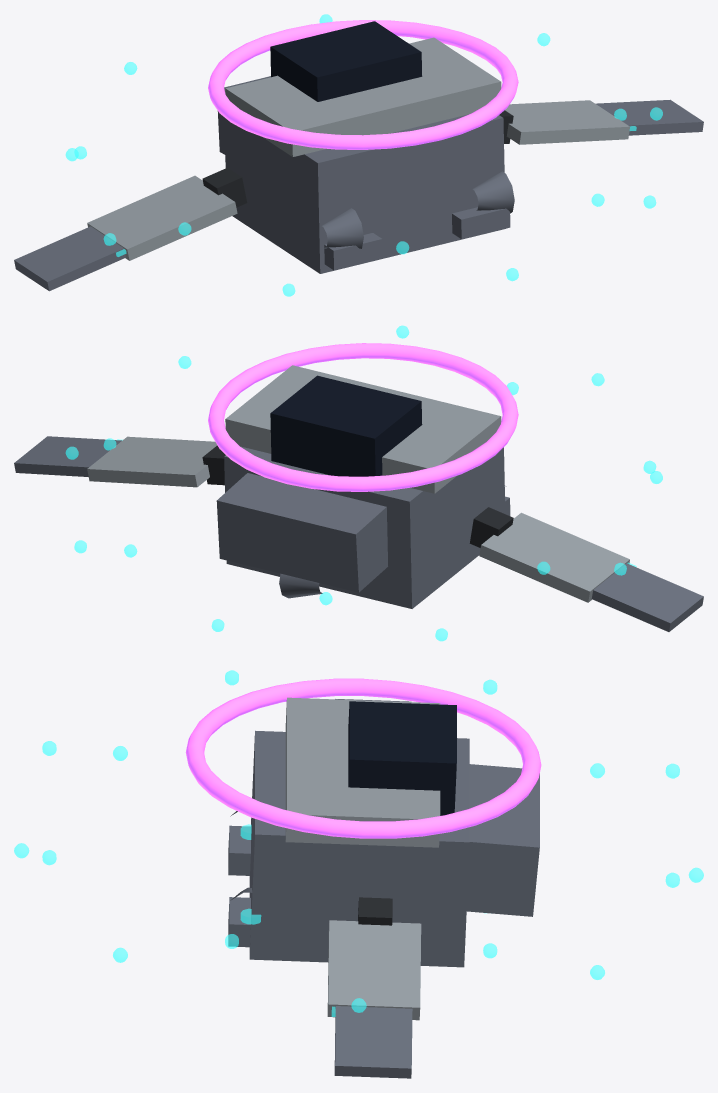
File: swarm_warden.glb
3 renders of one model, top to bottom at view 1: azimuth 30°, elevation 25°; view 2: azimuth 150°, elevation 25°; view 3: azimuth 270°, elevation 25°, orthographic. The views are drawn at different scales.
Size of the model in its own units: 5.66 by 1.38 by 4.5.
